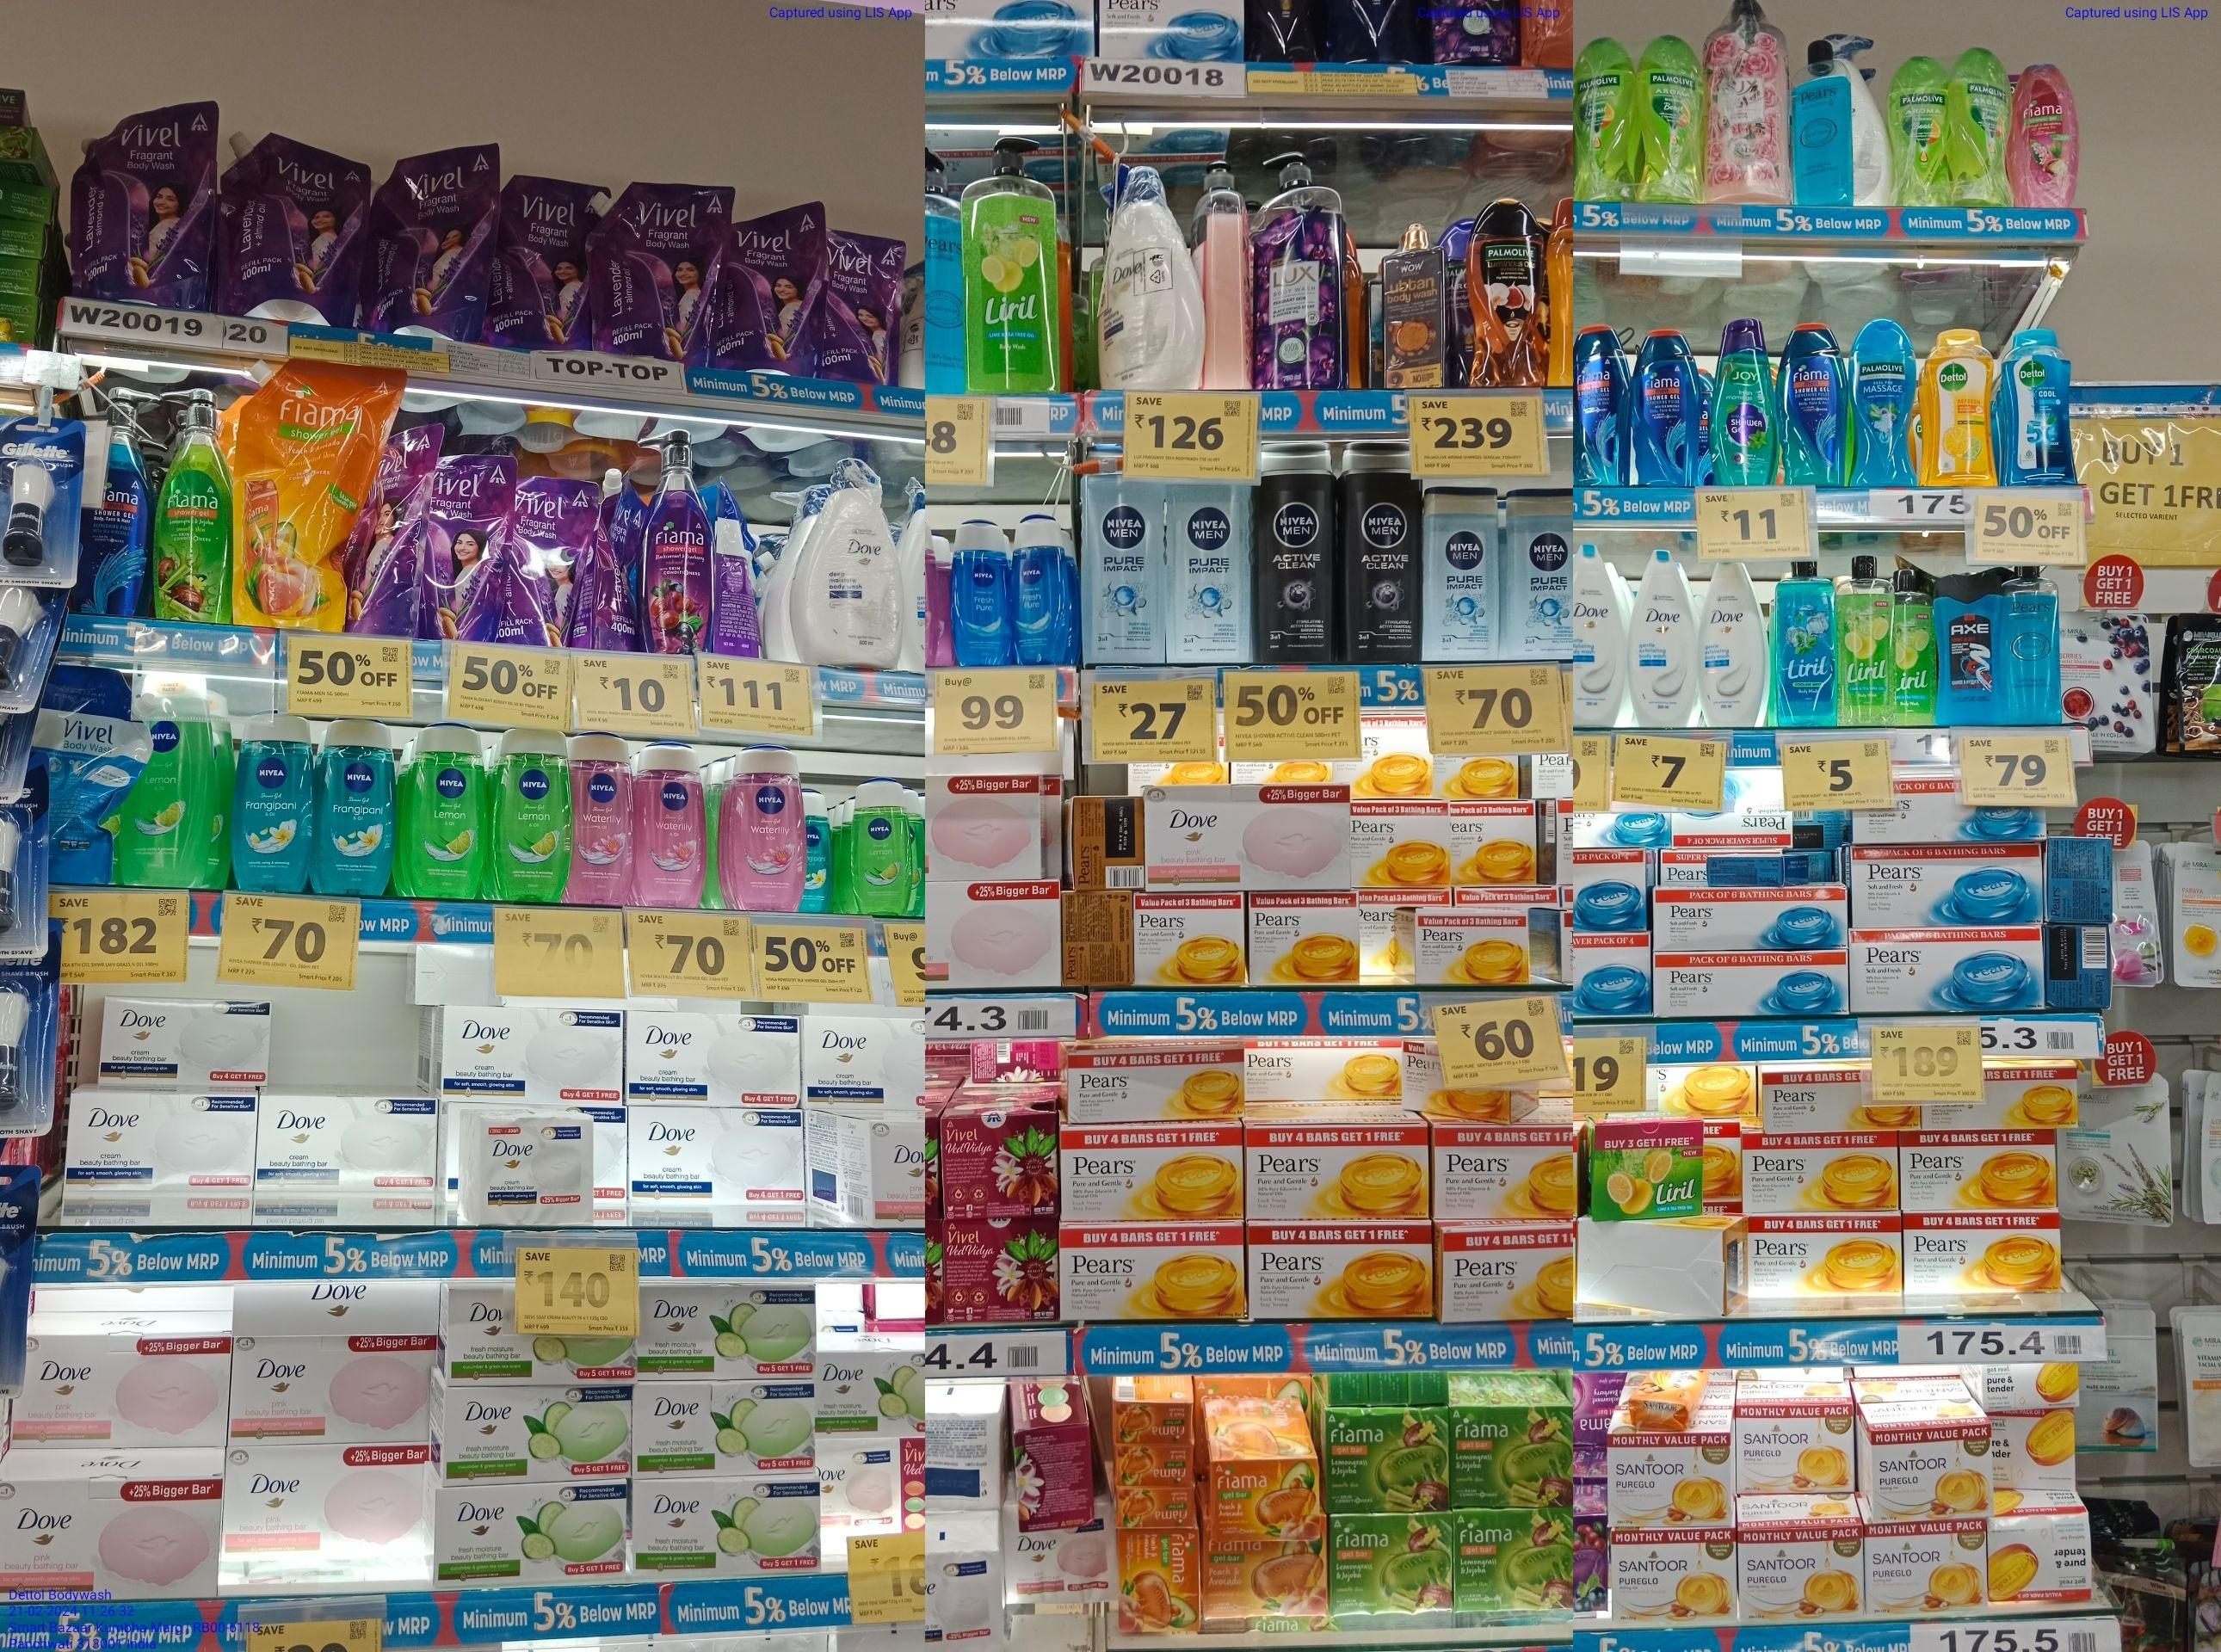Dettol_Bodywash_Cool: (2004, 328, 2072, 488)
Dettol_Bodywash_Refresh: (1923, 326, 1997, 486)
Dove_Gentle_Exfoliating_Body_Wash_250ML: (1626, 547, 1697, 727), (1697, 560, 1770, 725)
Fiama_Shower_Gel_Patchouli_and_Macadamia_250ML: (2013, 62, 2080, 206)
Joy_Shower_Gel_Mint_and_Eucalyptus_250ML: (1709, 316, 1777, 484)
Liril_Cooling_Mint_Body_Wash_250ML: (1832, 554, 1893, 725), (1772, 560, 1834, 725)
Nivea_Shower_Gel_Frangipani_and_Oil_250ML: (231, 713, 318, 894), (316, 715, 397, 895)
Nivea_Shower_Gel_Lemon_and_Oil_250ML: (403, 717, 491, 897), (493, 727, 573, 901), (850, 774, 911, 916)
Nivea_Shower_Gel_Waterlily_and_Oil_250ML: (727, 743, 807, 911), (633, 734, 704, 908), (571, 727, 633, 908)
Palmolive_Aroma_Moments_Feel_The_Massage_Shower_Gel_250ML: (1848, 316, 1919, 486)
Palmolive_Aroma_Morning_Tonic_Shower_Gel_250ML: (1636, 35, 1704, 201), (1574, 36, 1636, 200)
Palmolive_Luminous_Oils_With_White_Orchid_Shower_Gel_250ML: (1464, 196, 1546, 387)
Pears_Pure_Glycerin_and_Mint_Extracts_Body_Wash_250ML: (1789, 38, 1855, 205), (1999, 564, 2060, 724)
